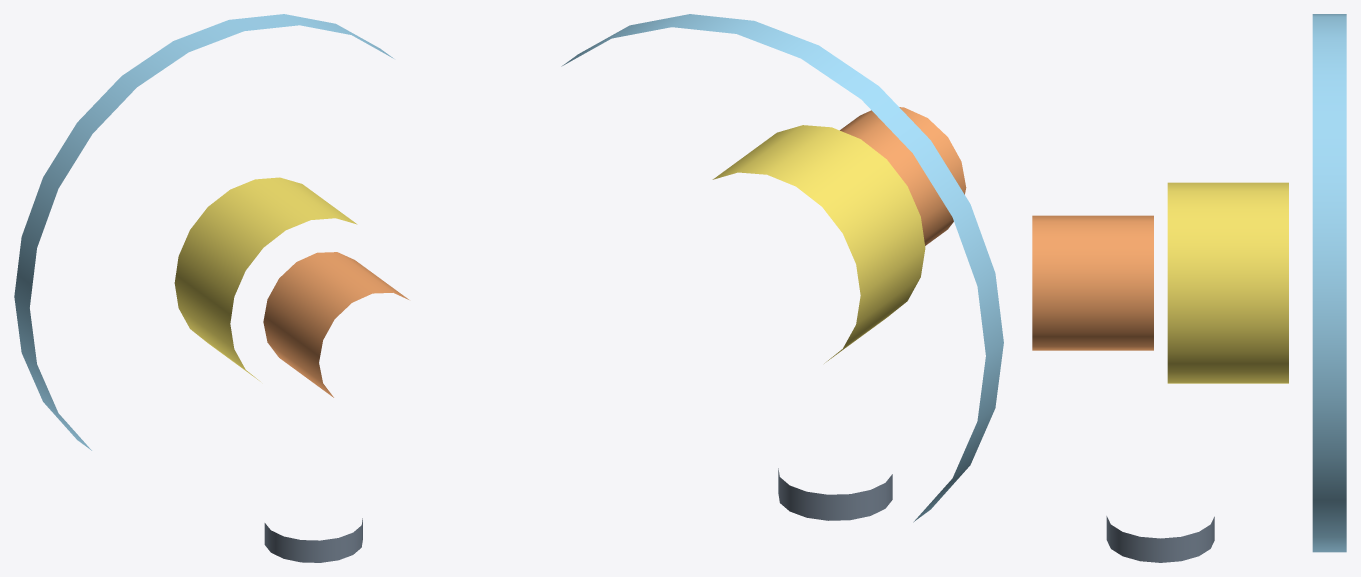
The model's file is differential_axle_and_wheel.glb.
The picture shows the model from 3 angles, left to right: view 1: azimuth 30°, elevation 25°; view 2: azimuth 150°, elevation 25°; view 3: azimuth 270°, elevation 25°; orthographic projection. The views are drawn at different scales.
Visible parts, largest first — view 1: LargerDifferentialAxleDiameterD1, EffortWheelLargeDiameterD, SmallerDifferentialAxleDiameterD2, SuspendedSnatchBlockPulleyWithLoad; view 2: LargerDifferentialAxleDiameterD1, EffortWheelLargeDiameterD, SmallerDifferentialAxleDiameterD2, SuspendedSnatchBlockPulleyWithLoad; view 3: LargerDifferentialAxleDiameterD1, EffortWheelLargeDiameterD, SmallerDifferentialAxleDiameterD2, SuspendedSnatchBlockPulleyWithLoad.
Boxes of the visible parts, x1,y1,x2,y2 form: LargerDifferentialAxleDiameterD1: [174, 177, 357, 381]; EffortWheelLargeDiameterD: [14, 14, 393, 450]; SmallerDifferentialAxleDiameterD2: [263, 252, 408, 397]; SuspendedSnatchBlockPulleyWithLoad: [264, 518, 362, 562]; LargerDifferentialAxleDiameterD1: [712, 125, 925, 363]; EffortWheelLargeDiameterD: [561, 14, 1003, 522]; SmallerDifferentialAxleDiameterD2: [840, 107, 966, 245]; SuspendedSnatchBlockPulleyWithLoad: [778, 468, 892, 520]; LargerDifferentialAxleDiameterD1: [1167, 182, 1288, 383]; EffortWheelLargeDiameterD: [1312, 14, 1346, 552]; SmallerDifferentialAxleDiameterD2: [1032, 215, 1153, 350]; SuspendedSnatchBlockPulleyWithLoad: [1106, 516, 1214, 562].
Bounding box in the file's own units: 0.8 × 0.82 × 0.465.
